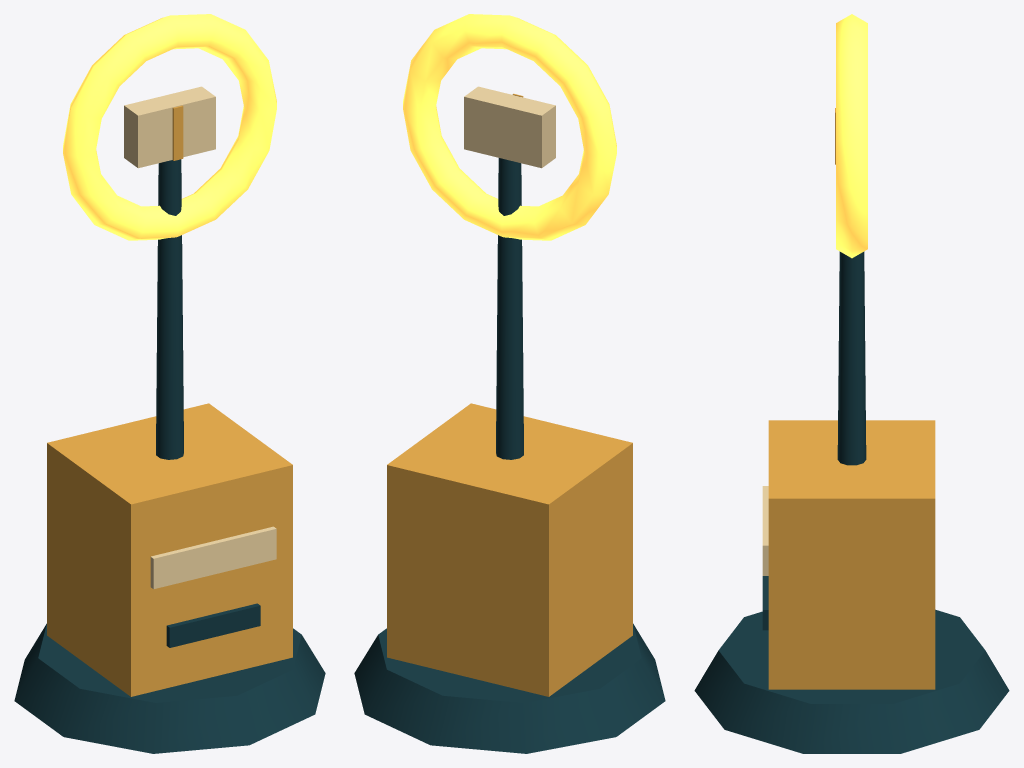
File: parcel-tower-3.glb
The picture shows the model from 3 angles, left to right: view 1: azimuth 30°, elevation 25°; view 2: azimuth 150°, elevation 25°; view 3: azimuth 270°, elevation 25°; orthographic projection.
Size of the model in its own units: 1.62 by 3.96 by 1.7.
